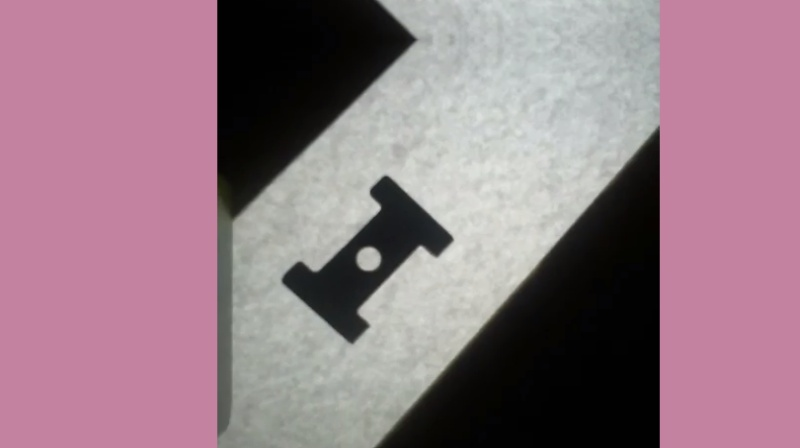O002: (278, 169, 456, 345)
